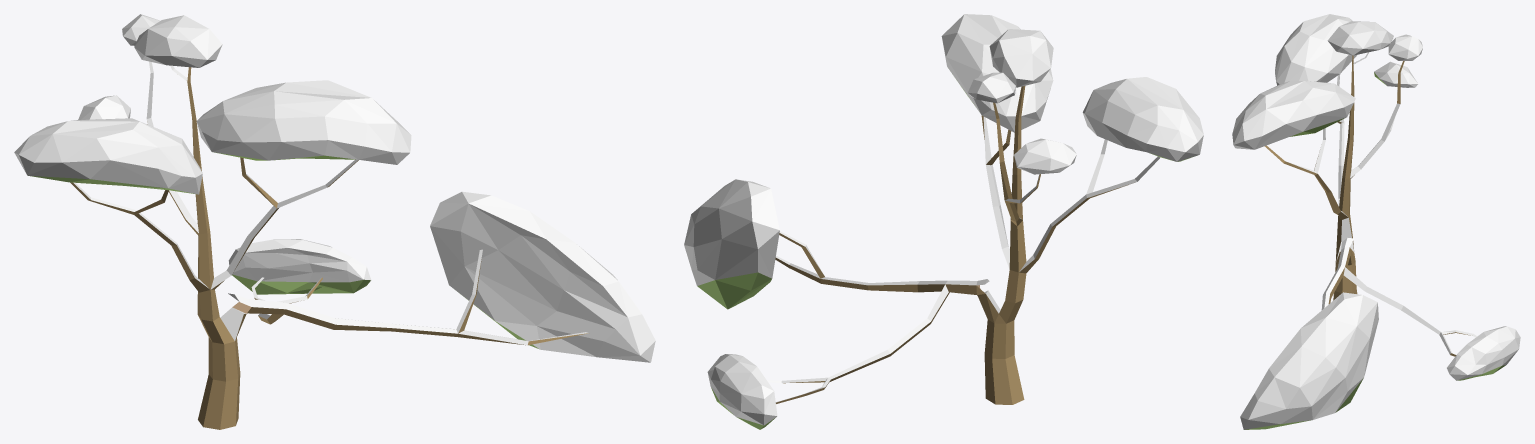
File: Acacia_Tree_crk_l_Snow_01.fbx
3 views of the same model, side by side, from view 1: azimuth 30°, elevation 25°; view 2: azimuth 150°, elevation 25°; view 3: azimuth 270°, elevation 25° (orthographic). The views are drawn at different scales.
Parts seen in each view (by area): view 1: Acacia_Tree_crk_l_Snow_01; view 2: Acacia_Tree_crk_l_Snow_01; view 3: Acacia_Tree_crk_l_Snow_01.
Boxes of the visible parts, <box> form: Acacia_Tree_crk_l_Snow_01: <box>14,14,655,429</box>; Acacia_Tree_crk_l_Snow_01: <box>684,14,1203,429</box>; Acacia_Tree_crk_l_Snow_01: <box>1232,14,1520,429</box>.
Bounding box in the file's own units: 1783 × 1181 × 1085.
